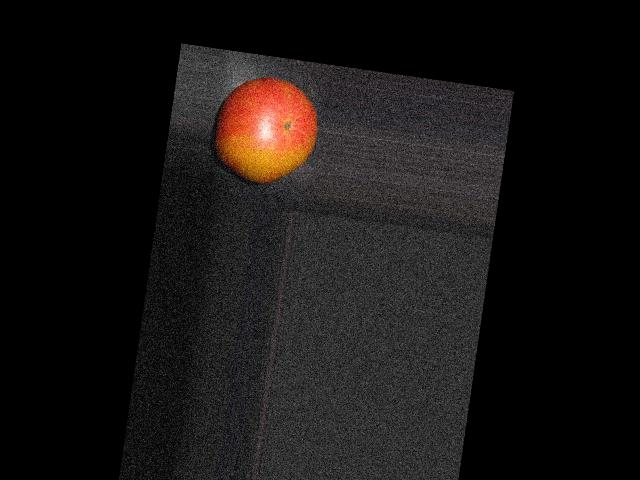tomato: (209, 71, 323, 189)
